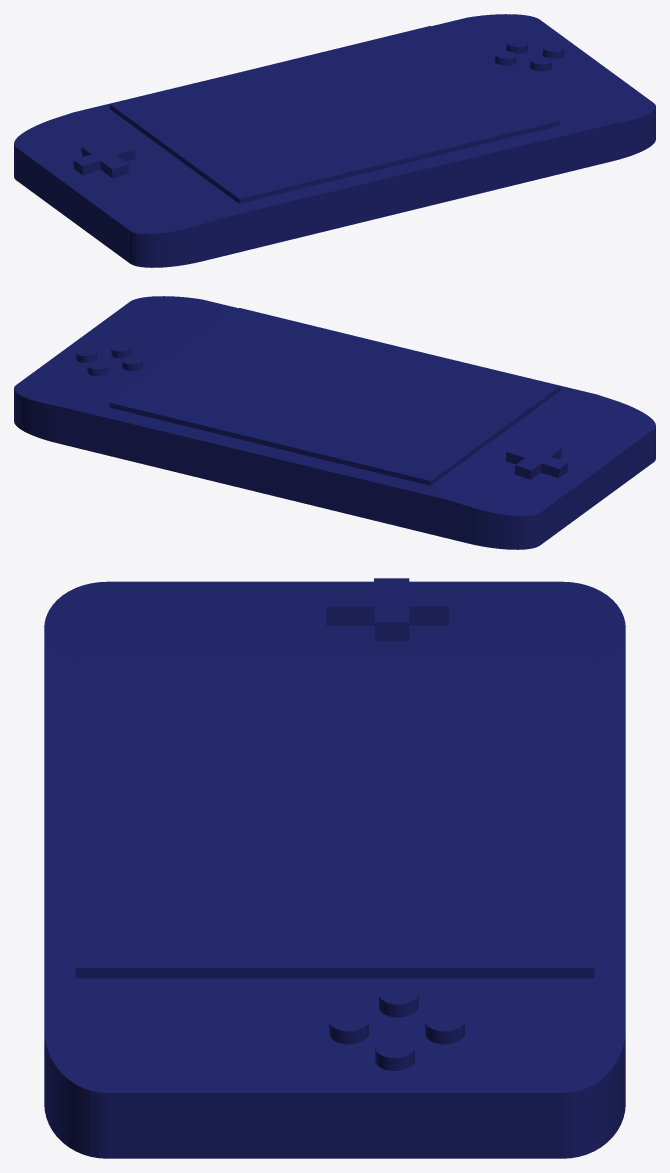
The model's file is gameboyInteractable.fbx.
3 renders of one model, top to bottom at view 1: azimuth 30°, elevation 25°; view 2: azimuth 150°, elevation 25°; view 3: azimuth 270°, elevation 25°, orthographic. The views are drawn at different scales.
Visible parts, largest first — view 1: Cube; view 2: Cube; view 3: Cube.
Boxes of the visible parts, left/top/right/bottom form: Cube: left=14, top=14, right=655, bottom=267; Cube: left=14, top=296, right=655, bottom=549; Cube: left=44, top=578, right=625, bottom=1158.
Bounding box in the file's own units: 498 × 43.62 × 240.
